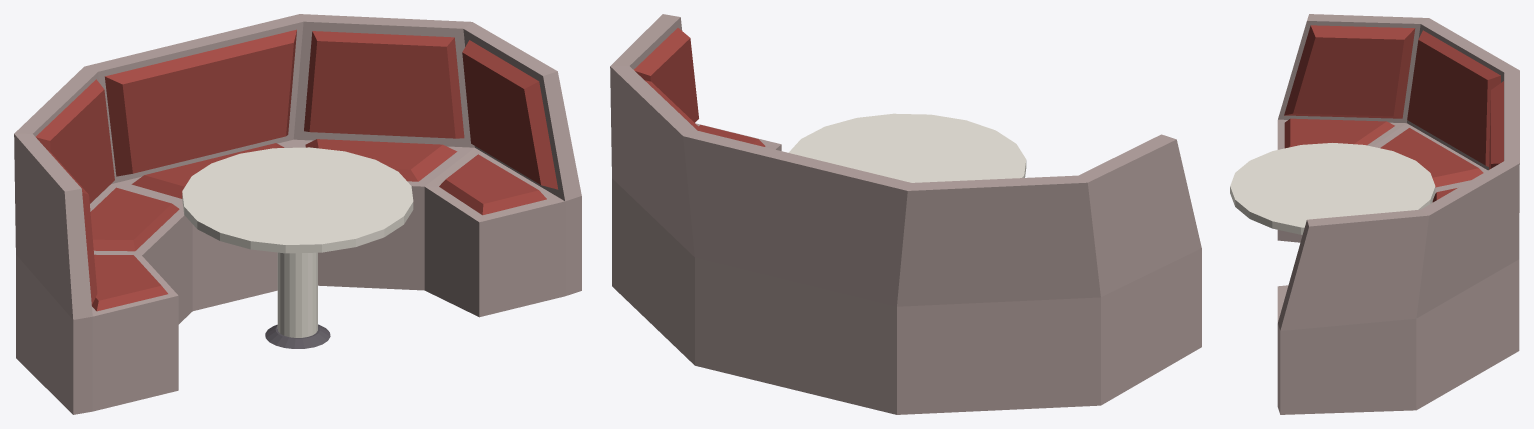
The model's file is couch.fbx.
3 renders of one model, left to right at view 1: azimuth 30°, elevation 25°; view 2: azimuth 150°, elevation 25°; view 3: azimuth 270°, elevation 25°, orthographic. The views are drawn at different scales.
Visible parts, largest first — view 1: Couch; view 2: Couch; view 3: Couch.
Boxes of the visible parts, x1,y1,x2,y2 form: Couch: (14,14,581,414); Couch: (610,14,1201,414); Couch: (1230,14,1519,414).
Size of the model in its own units: 383 by 157 by 214.
